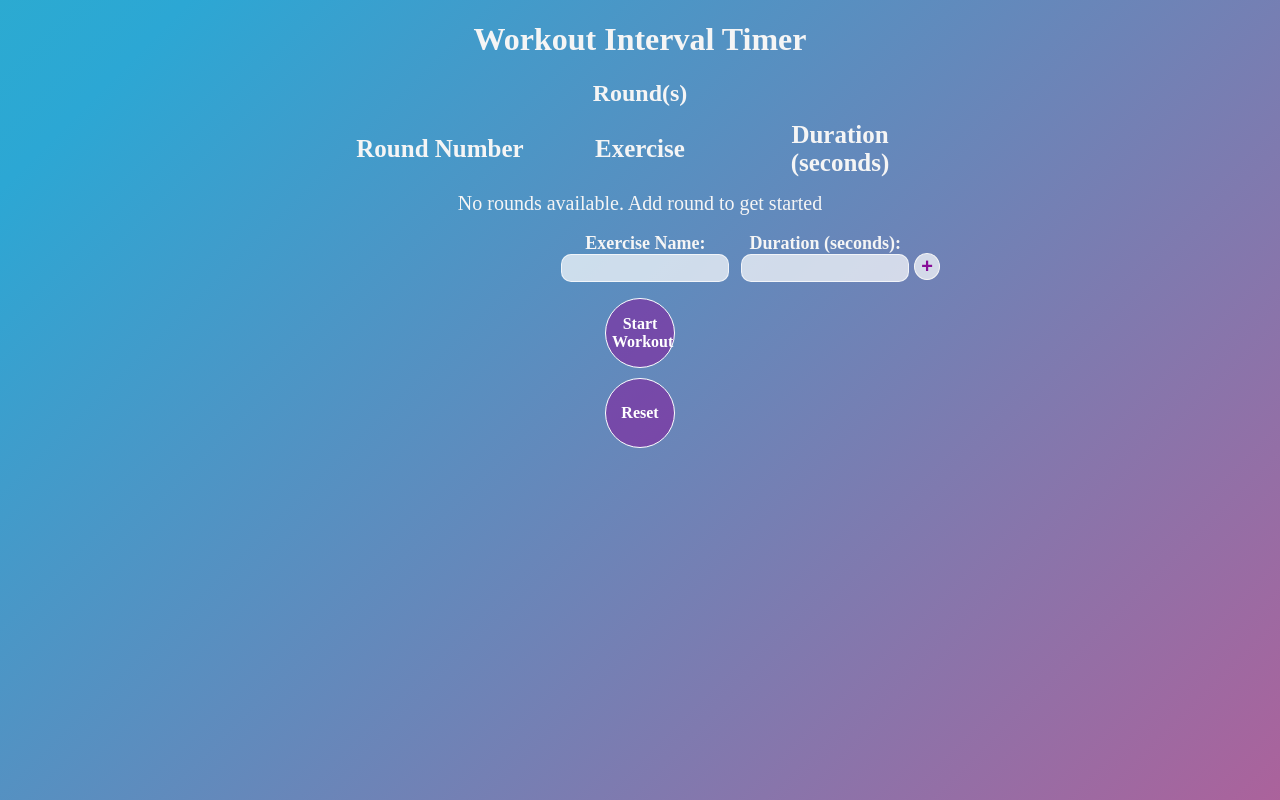
Test: App › Clears all the information when reset clicked
This screenshot has width=1280, height=800.
In the field with id "exercise_name": (645, 268) 561,254 -> 729,282, type "Push-ups"
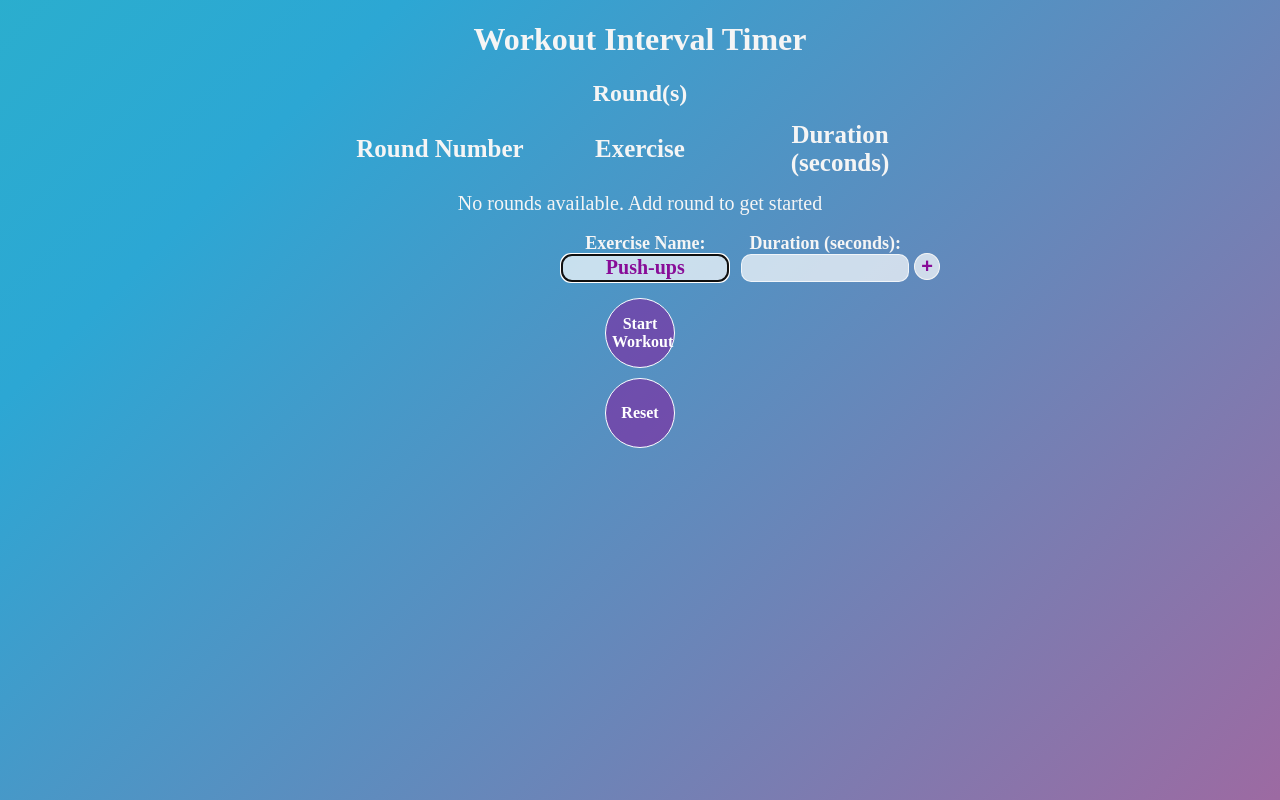
In the field with id "round_duration": (825, 268) 741,254 -> 909,282, type "30"
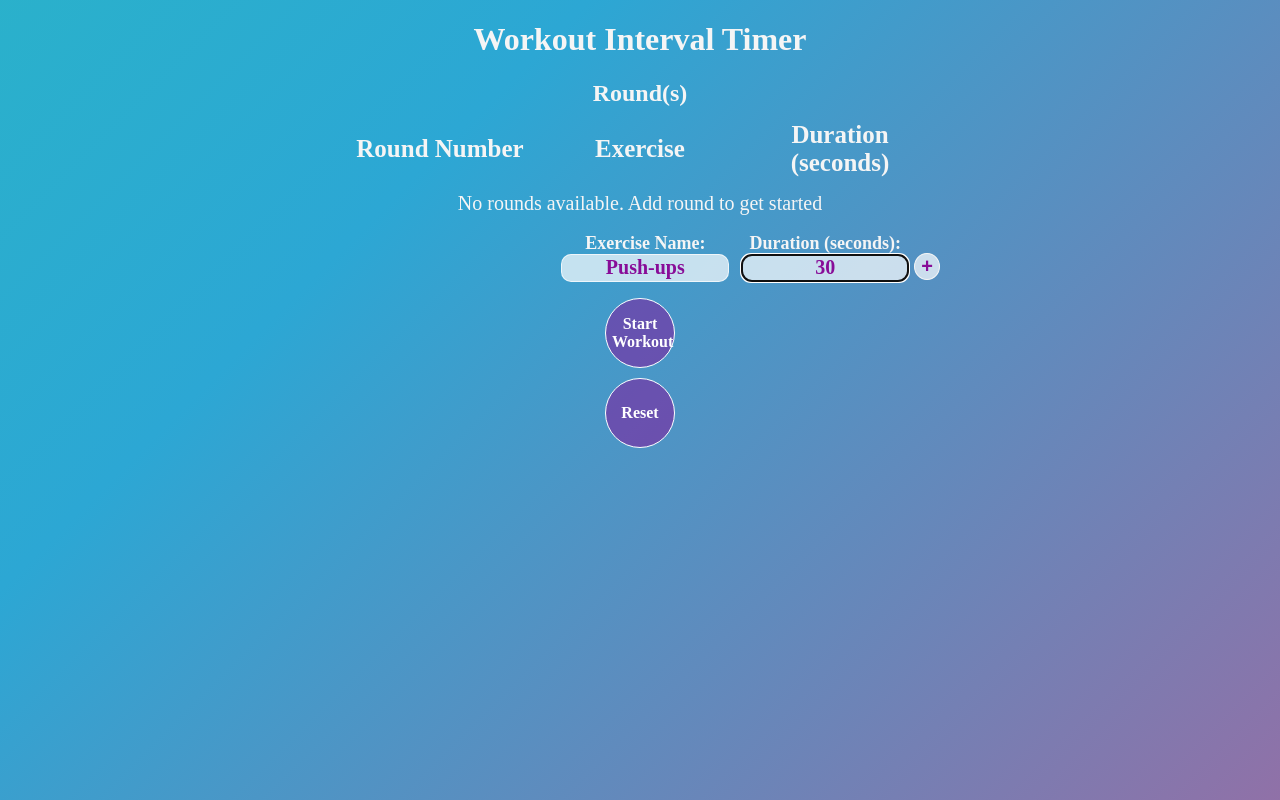
Click the button with id "add_round": (927, 267) 914,253 -> 940,280
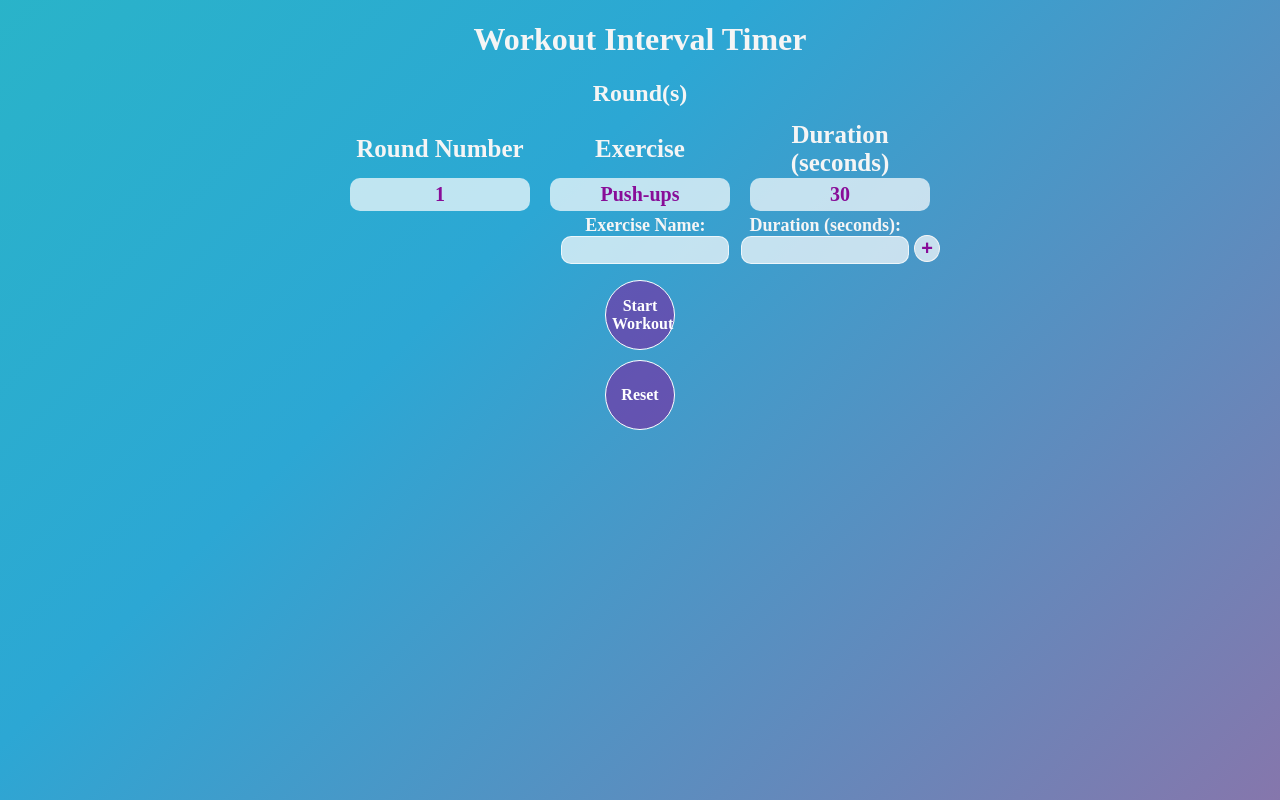
Click the button with id "reset-button": (640, 395) 605,360 -> 675,430
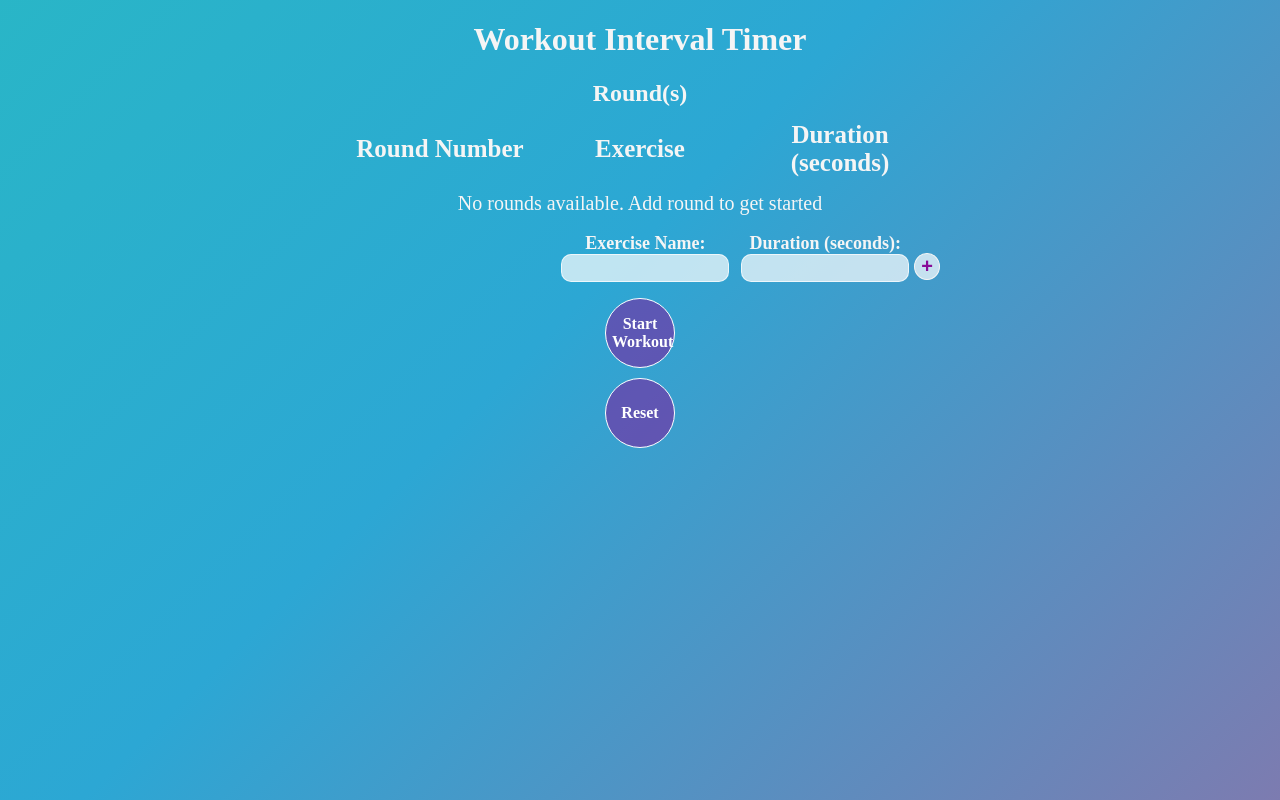
Expected: the text "No rounds available. Add round to get started" is shown, 458,192 -> 822,214
